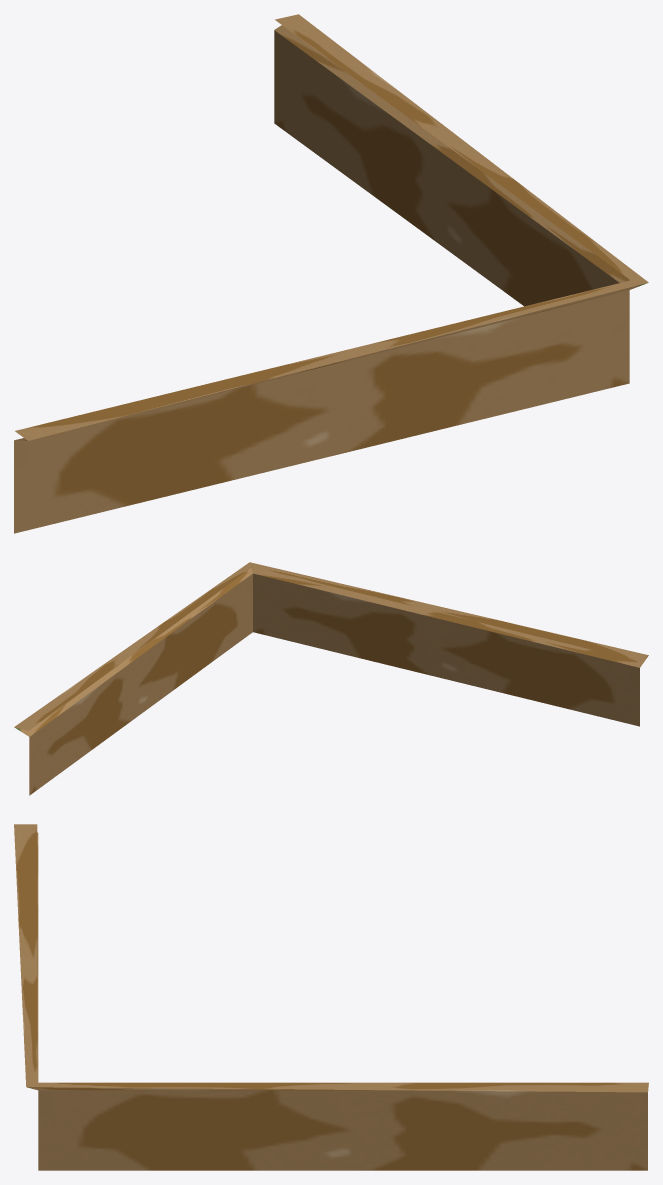
The model's file is Base_Corner_01.fbx.
3 views of the same model, one above another, from view 1: azimuth 30°, elevation 25°; view 2: azimuth 150°, elevation 25°; view 3: azimuth 270°, elevation 25° (orthographic). The views are drawn at different scales.
Visible parts, largest first — view 1: Cube.006; view 2: Cube.006; view 3: Cube.006.
Boxes of the visible parts, x1,y1,x2,y2 form: Cube.006: (14,14,648,533); Cube.006: (14,562,648,795); Cube.006: (14,824,648,1170).
Bounding box in the file's own units: 260 × 40 × 260.
